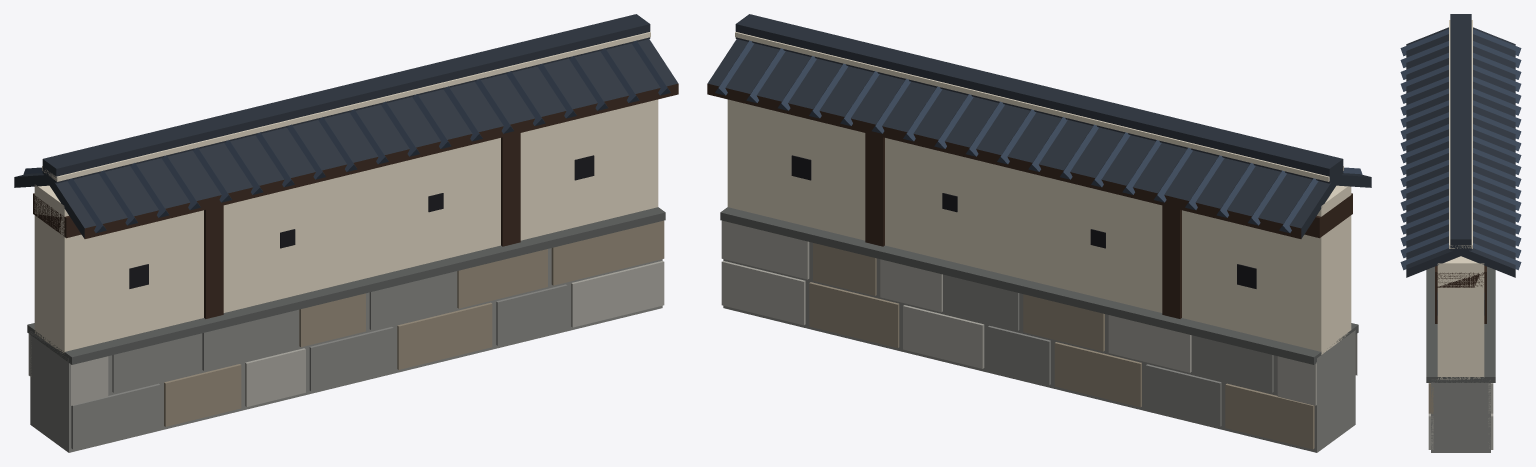
The model's file is wall_segment.fbx.
3 renders of one model, left to right at view 1: azimuth 30°, elevation 25°; view 2: azimuth 150°, elevation 25°; view 3: azimuth 270°, elevation 25°, orthographic. The views are drawn at different scales.
Visible parts, largest first — view 1: wall_segment; view 2: wall_segment; view 3: wall_segment.
Boxes of the visible parts, x1=… form: wall_segment: x1=14, y1=14, x2=678, y2=452; wall_segment: x1=707, y1=14, x2=1371, y2=452; wall_segment: x1=1400, y1=14, x2=1521, y2=452.
Size of the model in its own units: 8 by 3.54 by 1.82.
